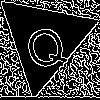Q: (19, 15, 70, 74)
